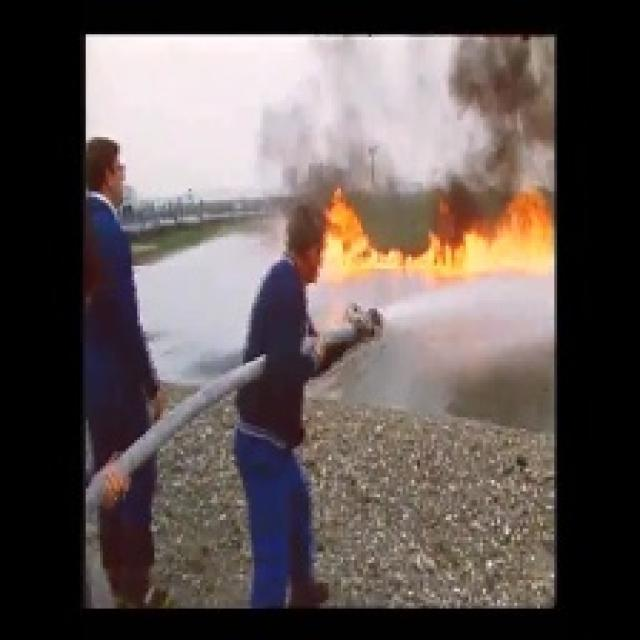Fire: (318, 188, 556, 285)
Smoke: (253, 35, 554, 201)
